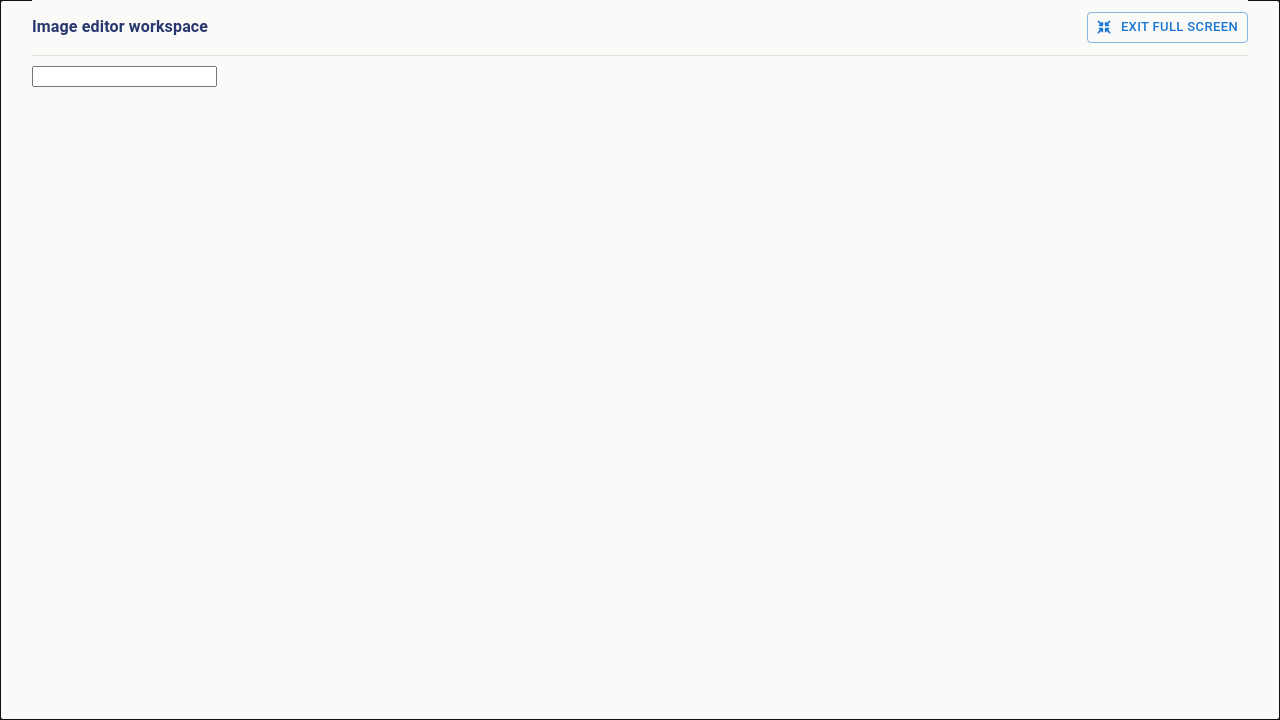
Test: allows dedicated editors to start expanded then exit normally
Click the button "Exit full screen". click: (1167,27)
box: [1087,12,1248,43]
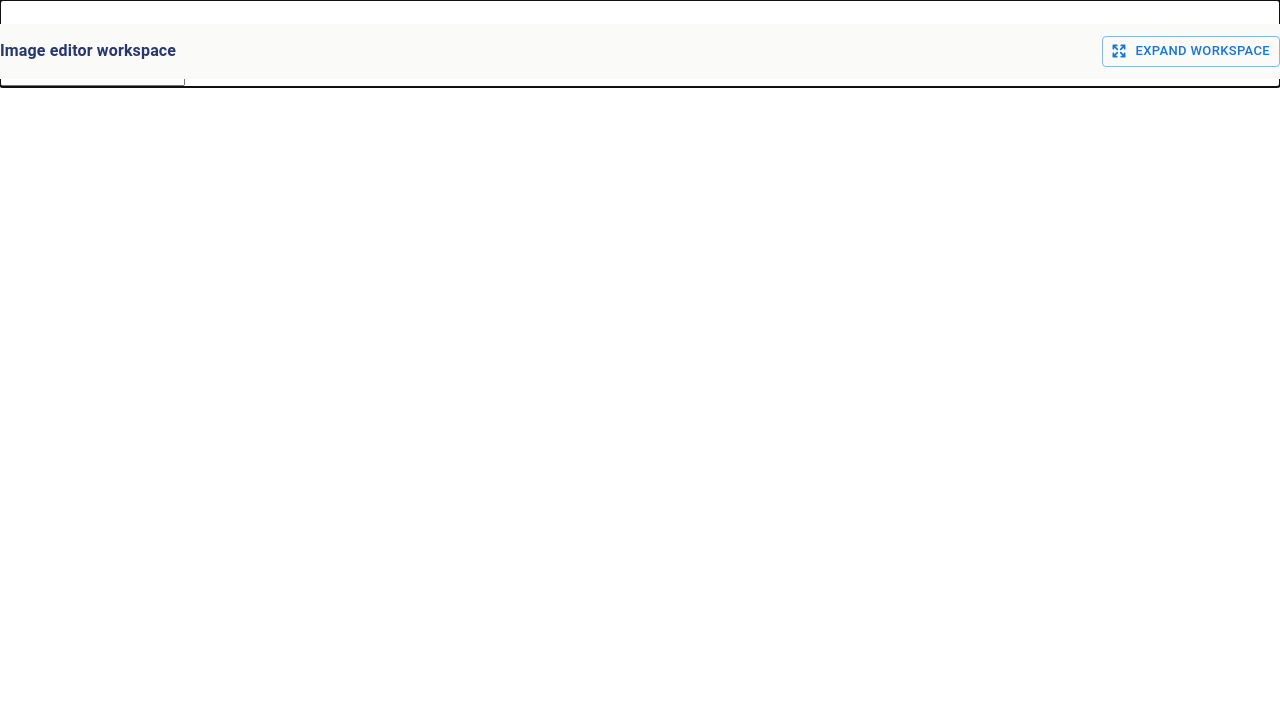
Now the element showing "Image editor workspace Expand workspace" is shown, box [0,0,1279,87]
